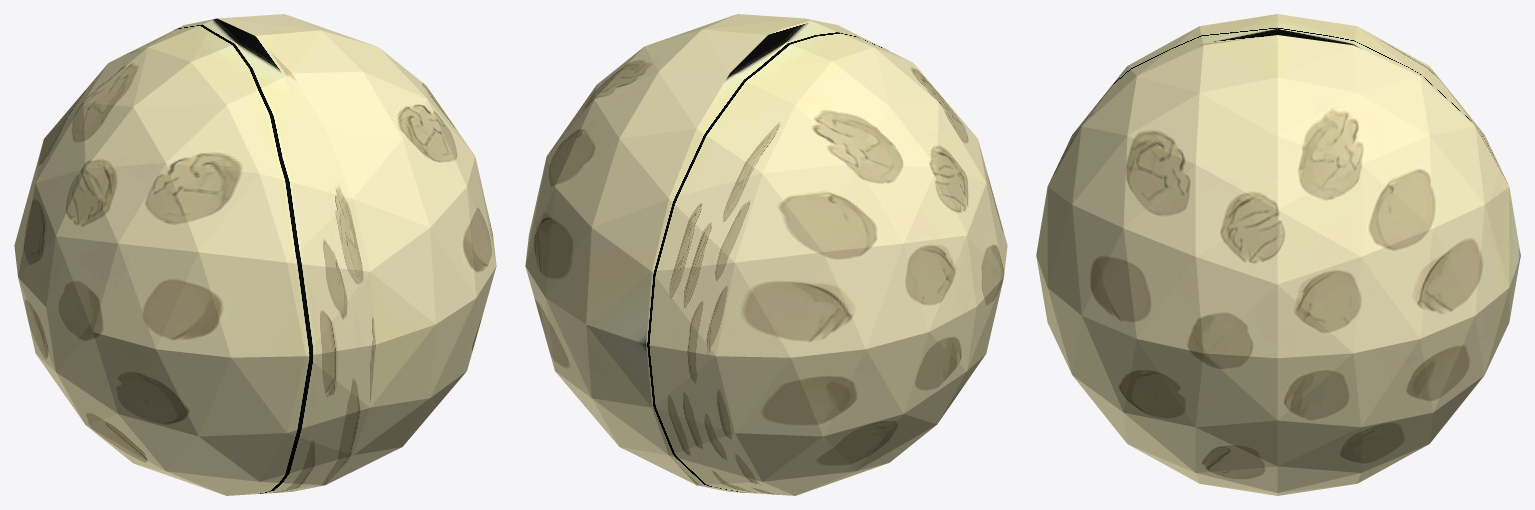
File: GolfBall.glb
3 views of the same model, side by side, from view 1: azimuth 30°, elevation 25°; view 2: azimuth 150°, elevation 25°; view 3: azimuth 270°, elevation 25° (orthographic).
Visible parts, largest first — view 1: GolfBall; view 2: GolfBall; view 3: GolfBall.
Boxes of the visible parts, x1=… form: GolfBall: x1=14, y1=14, x2=496, y2=495; GolfBall: x1=525, y1=14, x2=1007, y2=495; GolfBall: x1=1036, y1=14, x2=1520, y2=495.
Size of the model in its own units: 15.9 by 15.9 by 15.9.
Materials: 1 (1 with a texture image).
